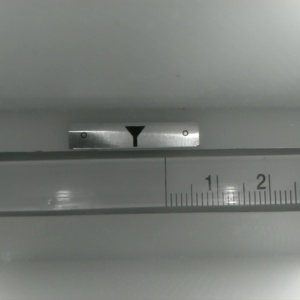1: (204, 174, 211, 191)
2: (255, 174, 266, 190)
finger: (124, 126, 145, 145)
